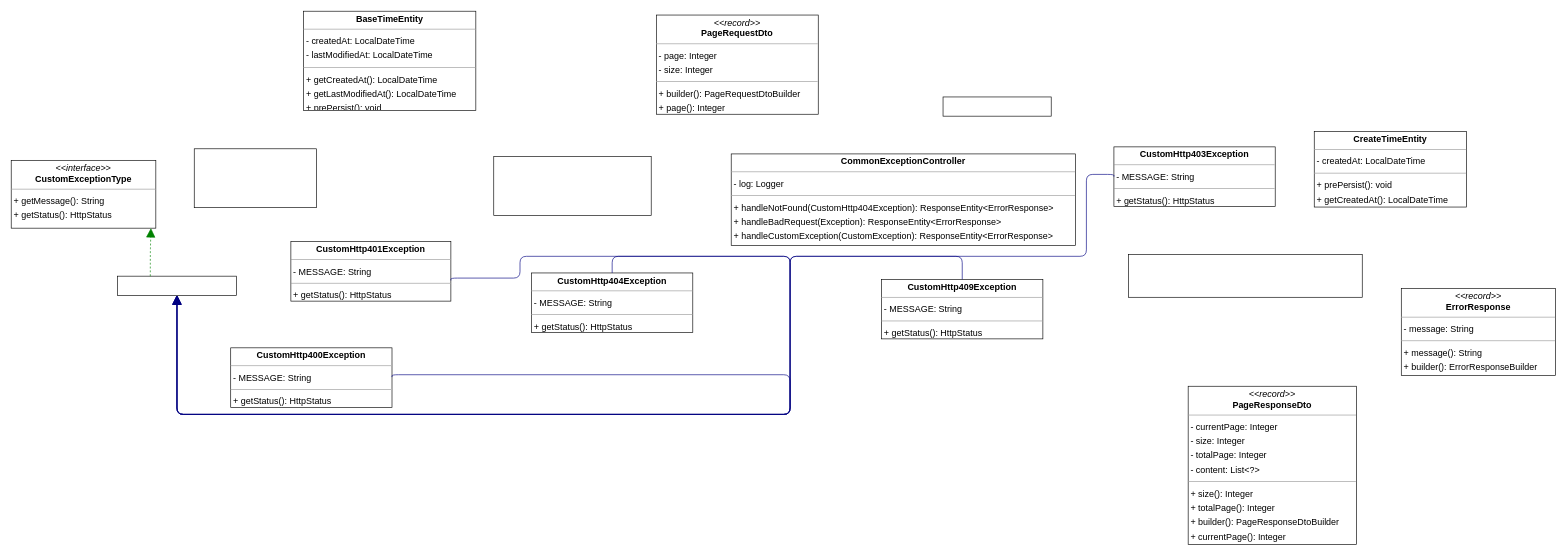
This 1567x556 diagram has some shape labels left out. Here are the shapes that lost their labels. From the top down, the centre of each, then its label:
At point (996, 106): "SwaggerConfig".
At point (255, 178): "AssertionMessage + VALID: String + NOT_EMPTY: String".
At point (572, 185): "PasswordEncoder + matches(String, String): boolean + encode(String): String".
At point (176, 285): "CustomException".
At point (1245, 275): "QueryDslConfig + jpaQueryFactory(EntityManager): JPAQueryFactory".
